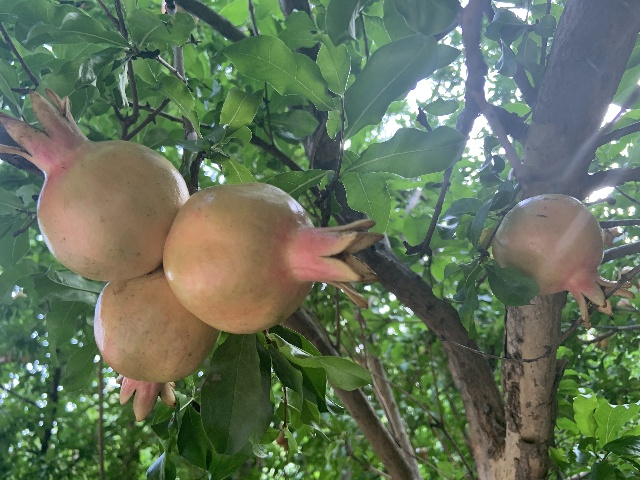mid-growth: (0, 87, 189, 280), (162, 182, 384, 333), (93, 266, 220, 421), (493, 193, 633, 328)
